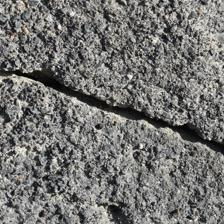Crack: (3, 33, 216, 120)
